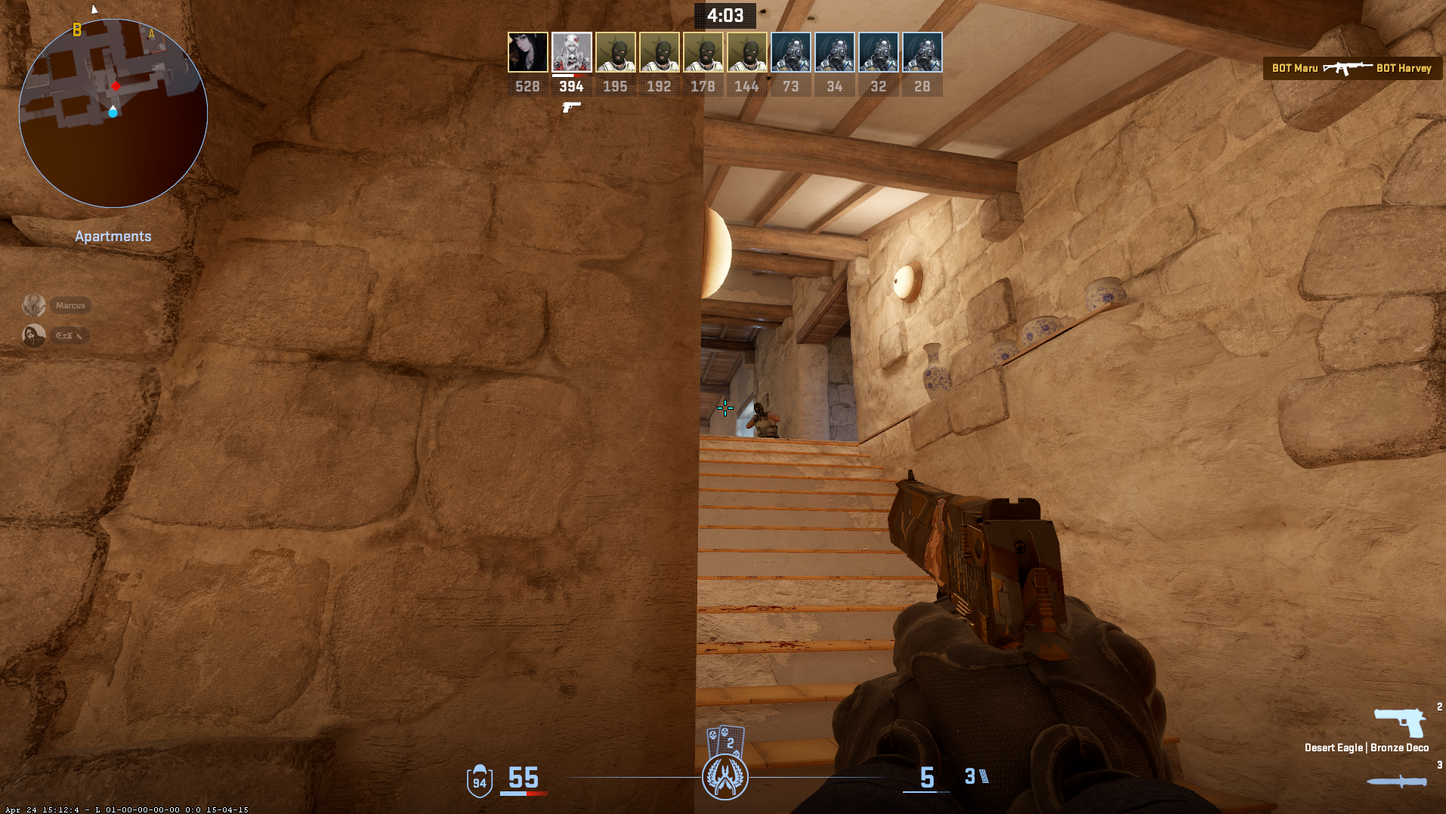T: (746, 402, 781, 437)
